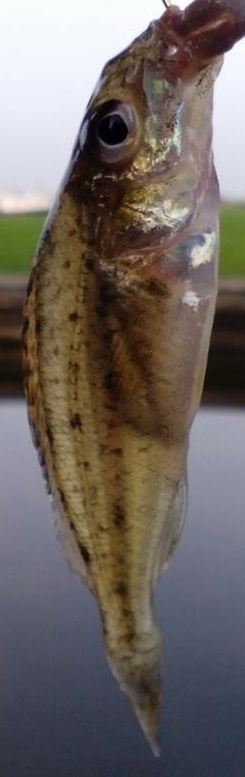Gymnocephalus cernuus: (20, 20, 225, 757)
